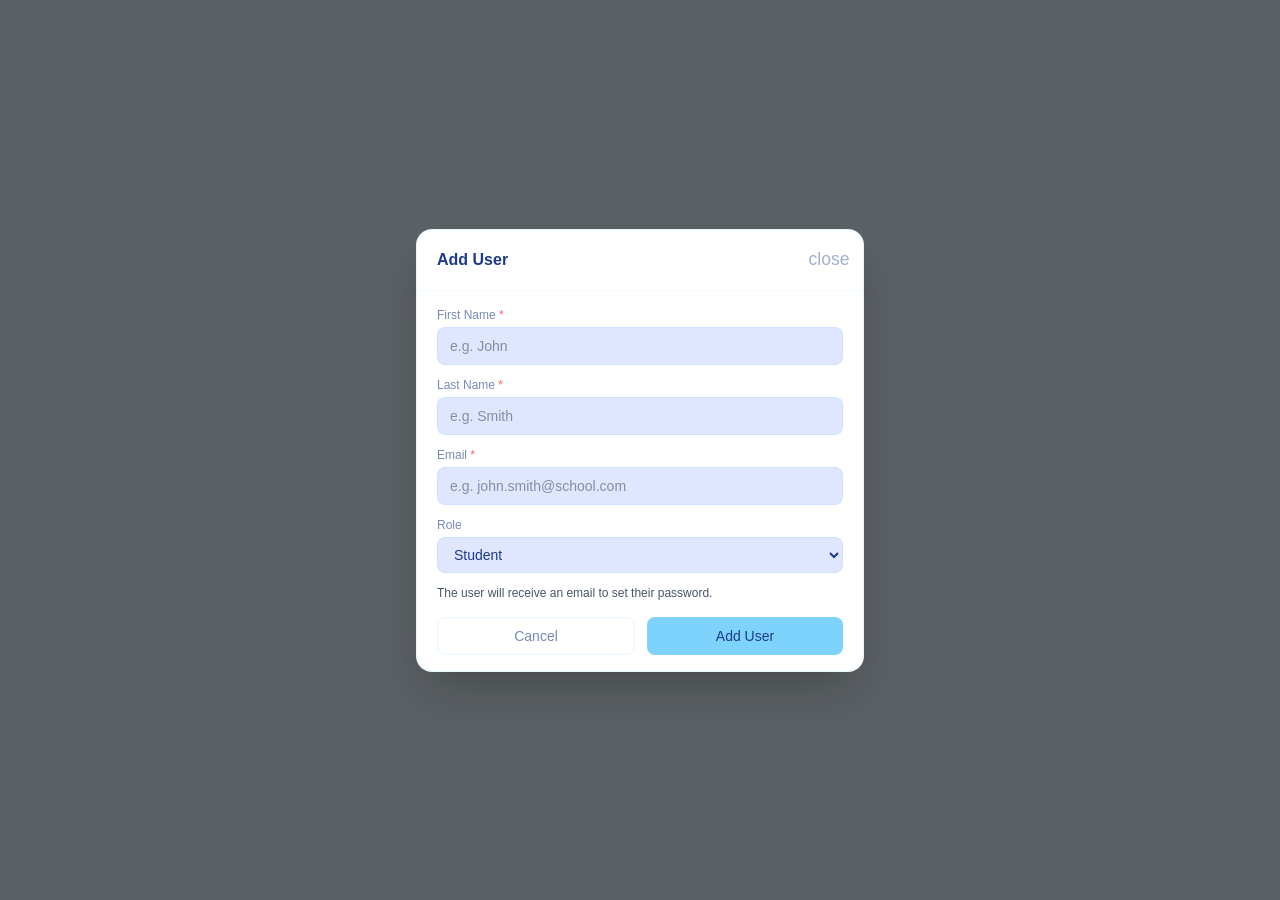
Scenario: UserFormModal › shows validation error when last name empty
The width and height of the screenshot is (1280, 900).
Type "John" into the field with placeholder "e.g. John".
click(640, 346); type("John")  # box top-left (437, 326), bottom-right (843, 364)
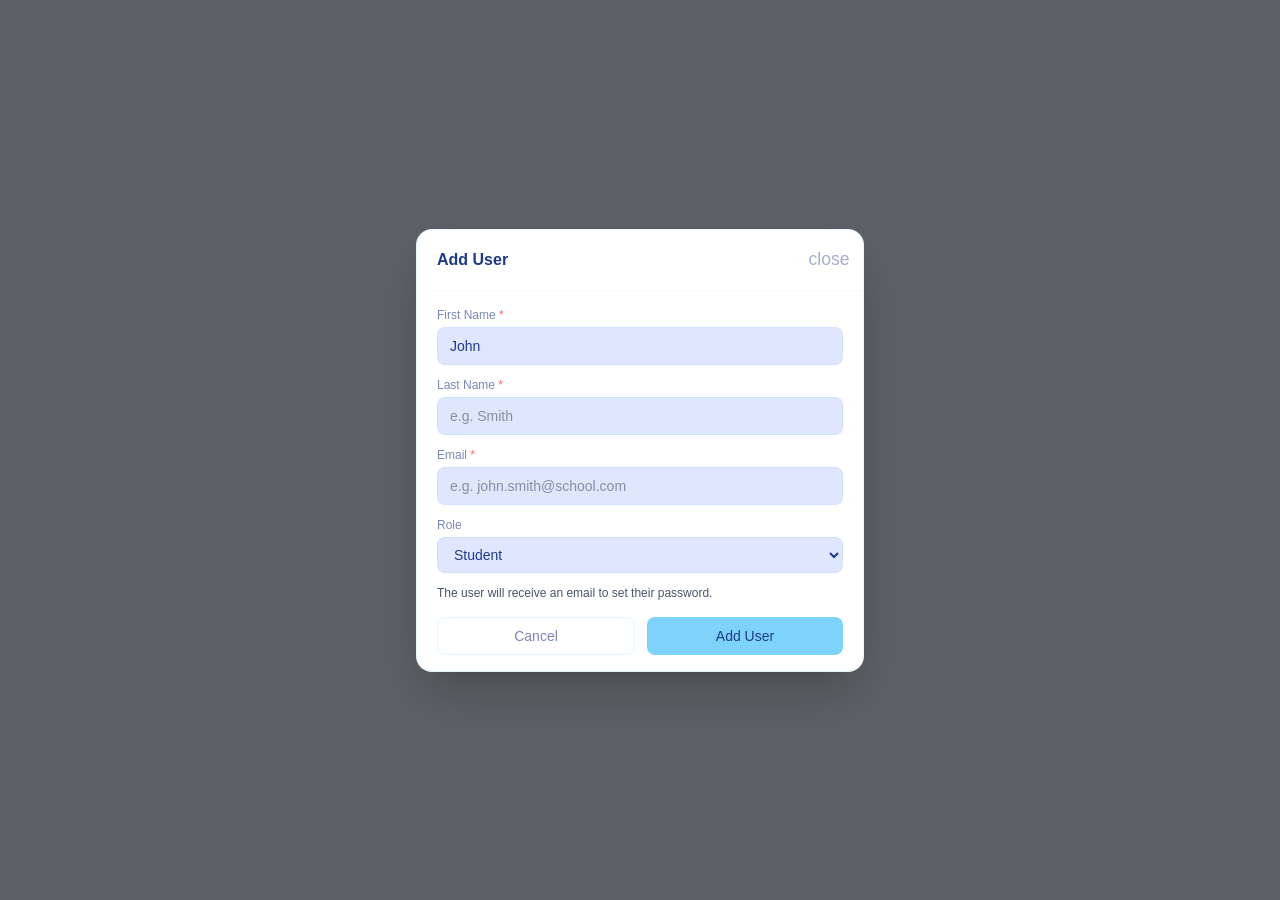
Submit the form, box top-left (417, 290), bottom-right (863, 670)
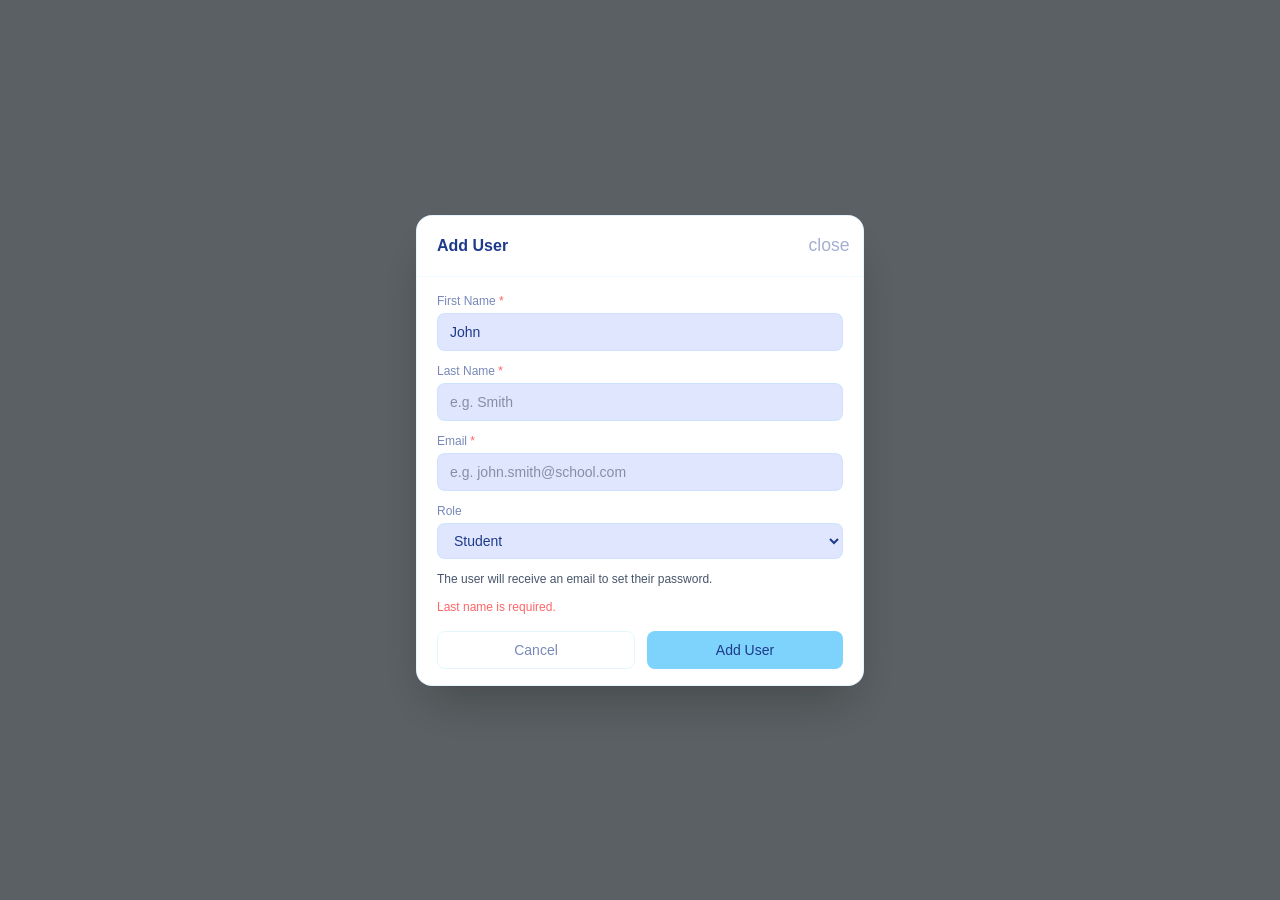
Check: the text "Last name is required." is shown, box top-left (437, 600), bottom-right (556, 614)
